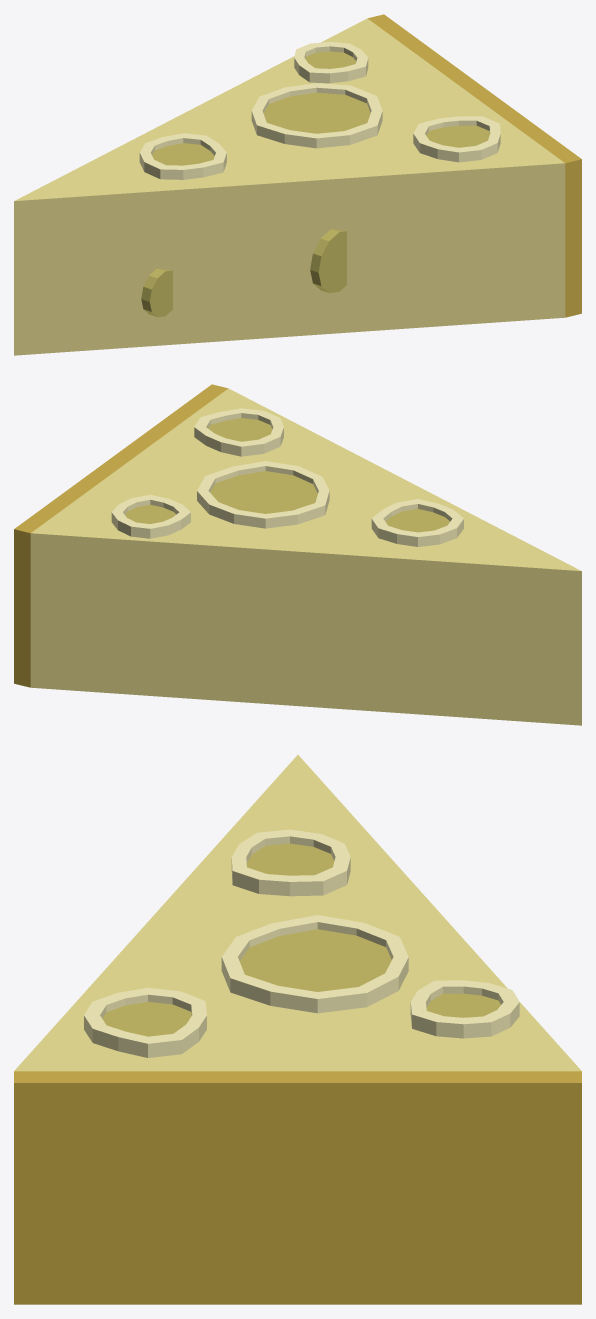
The model's file is MoonCheese.fbx.
3 views of the same model, one above another, from view 1: azimuth 30°, elevation 25°; view 2: azimuth 150°, elevation 25°; view 3: azimuth 270°, elevation 25° (orthographic). The views are drawn at different scales.
Visible parts, largest first — view 1: Top_F0E696, Top_FFF8C0, Top_C8BE64, Top_D2B44A; view 2: Top_F0E696, Top_FFF8C0, Top_C8BE64, Top_D2B44A; view 3: Top_D2B44A, Top_F0E696, Top_FFF8C0, Top_C8BE64.
Boxes of the visible parts, left/top/right/bottom form: Top_F0E696: left=14, top=18, right=565, bottom=355; Top_FFF8C0: left=139, top=42, right=500, bottom=179; Top_C8BE64: left=141, top=51, right=489, bottom=317; Top_D2B44A: left=368, top=14, right=581, bottom=317; Top_F0E696: left=30, top=388, right=581, bottom=725; Top_FFF8C0: left=111, top=408, right=463, bottom=546; Top_C8BE64: left=125, top=418, right=449, bottom=532; Top_D2B44A: left=14, top=384, right=227, bottom=687; Top_D2B44A: left=14, top=1071, right=581, bottom=1304; Top_F0E696: left=14, top=755, right=581, bottom=1071; Top_FFF8C0: left=84, top=829, right=519, bottom=1057; Top_C8BE64: left=102, top=843, right=500, bottom=1036.
Bounding box in the file's own units: 2 × 0.6701 × 1.46.
